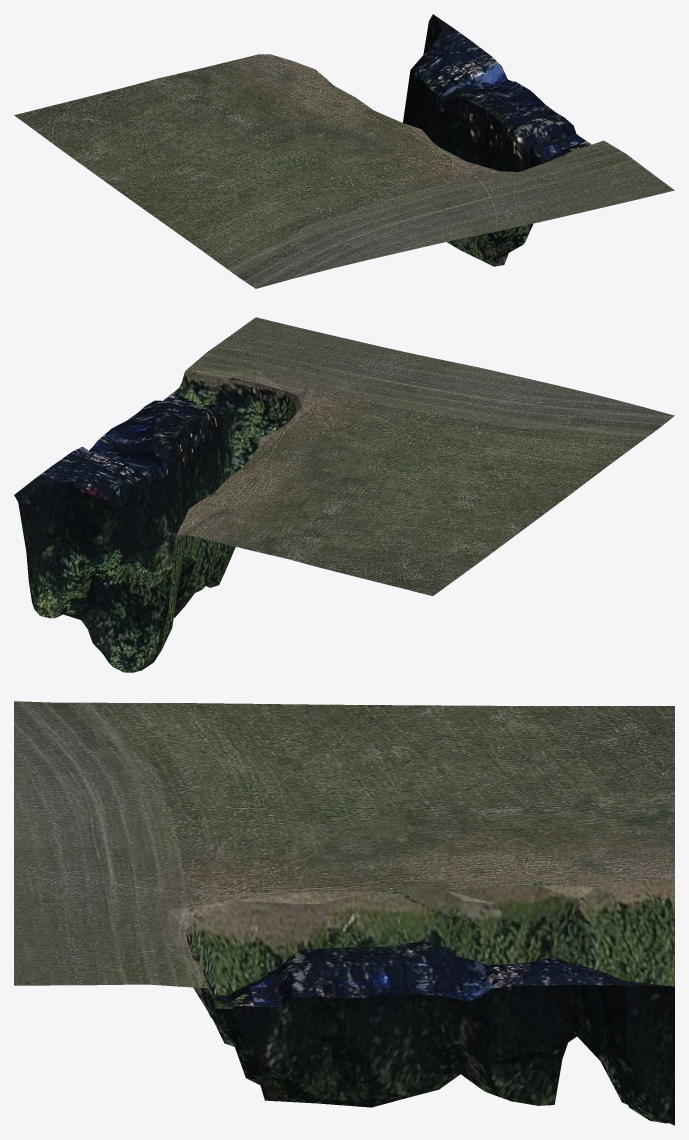
File: map_15_8186_13780.dae
The picture shows the model from 3 angles, top to bottom: view 1: azimuth 30°, elevation 25°; view 2: azimuth 150°, elevation 25°; view 3: azimuth 270°, elevation 25°; orthographic projection. The views are drawn at different scales.
Visible parts, largest first — view 1: Ter0; view 2: Ter0; view 3: Ter0.
Part boxes in pixels (x1,y1,x2,y2): Ter0: [14, 14, 674, 288]; Ter0: [14, 317, 674, 672]; Ter0: [14, 701, 674, 1125].
Bounding box in the file's own units: 63.88 × 63.88 × 22.9.
Materials: 3 (3 with a texture image).
